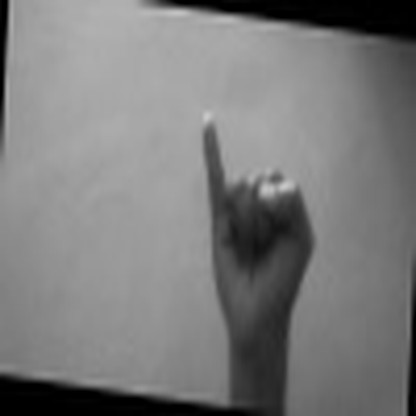i: (184, 97, 317, 332)
